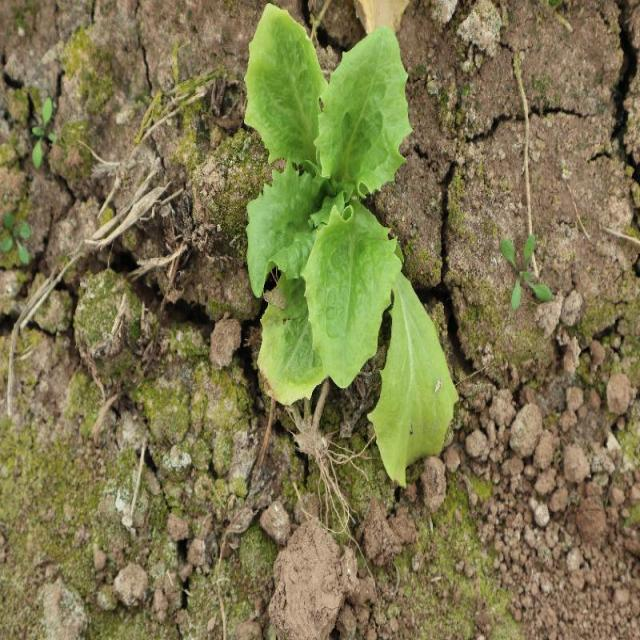crop: (243, 3, 462, 491)
